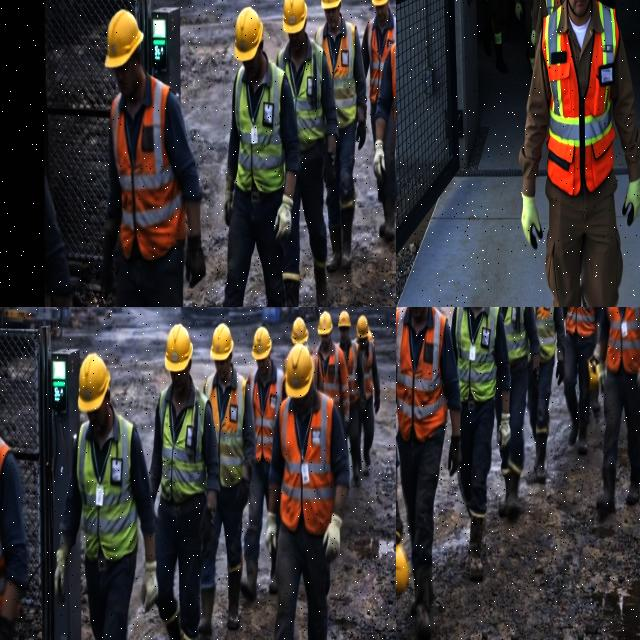Vest: (542, 2, 618, 195), (111, 77, 185, 261), (77, 413, 137, 562), (279, 393, 334, 535), (396, 307, 447, 443), (235, 59, 284, 193), (159, 387, 207, 504), (277, 41, 325, 152), (204, 373, 246, 487), (315, 21, 356, 129), (456, 307, 499, 404), (249, 368, 283, 463), (313, 342, 349, 415), (367, 18, 395, 104), (606, 307, 639, 375), (504, 307, 529, 364), (534, 307, 556, 363), (565, 307, 595, 338), (359, 342, 374, 400), (346, 342, 360, 404), (390, 44, 395, 129), (0, 528, 5, 610), (544, 0, 560, 15)
Worker: (520, 0, 639, 306), (101, 9, 205, 306), (54, 353, 157, 639), (266, 345, 349, 639), (223, 7, 299, 306), (150, 324, 219, 639), (396, 307, 461, 639), (277, 0, 337, 306), (199, 323, 255, 638), (451, 307, 510, 580), (315, 0, 366, 271), (241, 327, 285, 599), (595, 307, 639, 518), (499, 307, 539, 520), (528, 307, 564, 483), (563, 307, 603, 454), (0, 436, 27, 639), (338, 311, 366, 484), (362, 0, 395, 141), (313, 311, 349, 437), (356, 315, 379, 475), (374, 44, 395, 178), (481, 0, 507, 73), (531, 0, 565, 44), (515, 0, 534, 68), (396, 442, 402, 541), (291, 317, 308, 344), (531, 0, 541, 45), (590, 389, 599, 414)
helmet: (105, 9, 143, 69), (78, 353, 110, 413), (285, 344, 313, 399), (235, 7, 262, 62), (165, 324, 192, 372), (211, 323, 233, 361), (396, 533, 409, 596), (283, 0, 307, 34), (252, 327, 271, 360), (291, 317, 308, 343), (588, 357, 599, 391), (317, 312, 332, 335), (356, 315, 368, 339), (338, 311, 350, 328), (322, 0, 341, 10), (372, 0, 389, 6), (368, 330, 373, 342)
